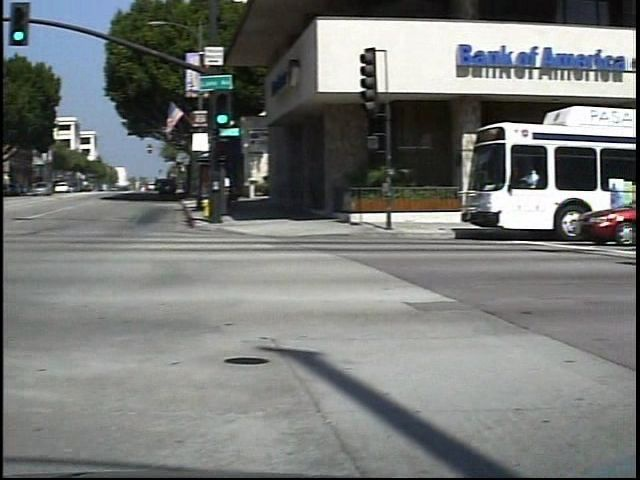person: (227, 167, 249, 217)
